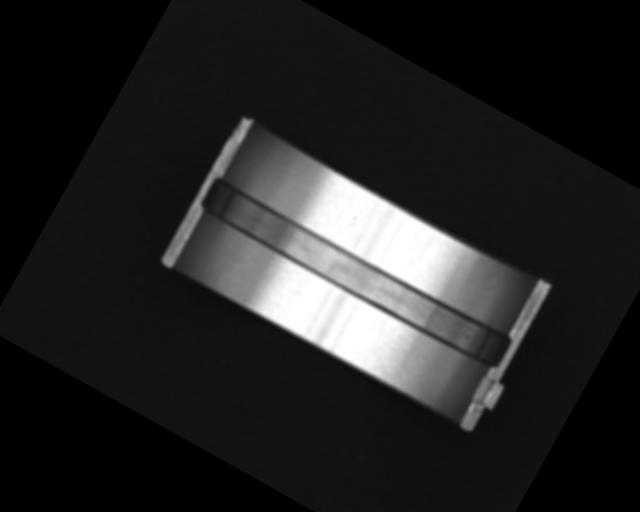gap: (196, 172, 516, 375)
